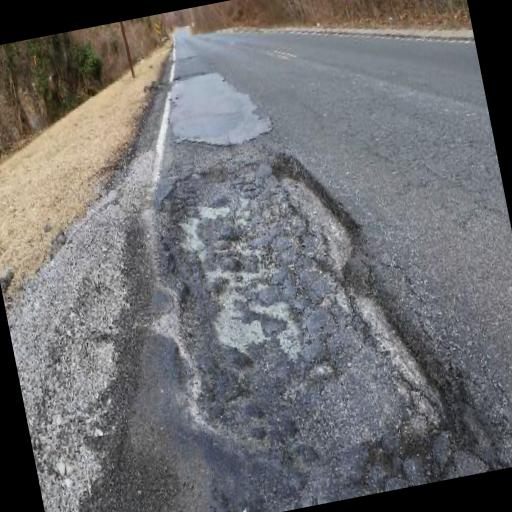pothole: (138, 120, 476, 512)
